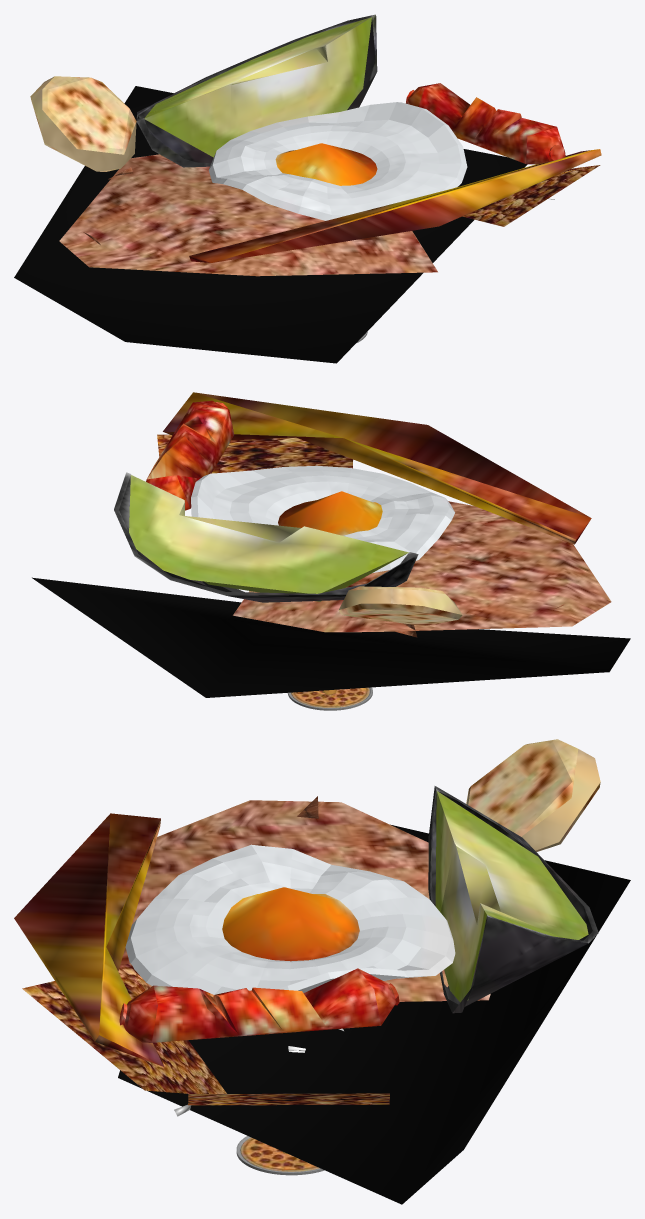
File: bandeja_paisa.glb
3 renders of one model, top to bottom at view 1: azimuth 30°, elevation 25°; view 2: azimuth 150°, elevation 25°; view 3: azimuth 270°, elevation 25°, orthographic. The views are drawn at different scales.
Parts seen in each view (by area): view 1: Object_2.003, Object_3.002, Object_7.002, Object_4.002, Object_5.002, Object_8.004, Object_6.004, Object_41.001, Object_46.001; view 2: Object_2.003, Object_3.002, Object_5.002, Object_4.002, Object_7.002, Object_6.004, Object_8.004, Object_46.001, Object_41.001, Object_4.003, Object_5.003; view 3: Object_2.003, Object_7.002, Object_5.002, Object_3.002, Object_4.002, Object_6.004, Object_8.004, Object_46.001, Object_41.001, Object_4.003.
Boxes of the visible parts, left/top/right/bottom form: Object_2.003: left=14, top=86, right=527, bottom=363; Object_3.002: left=59, top=154, right=437, bottom=276; Object_7.002: left=208, top=102, right=467, bottom=220; Object_4.002: left=144, top=17, right=371, bottom=157; Object_5.002: left=189, top=149, right=601, bottom=262; Object_8.004: left=30, top=76, right=136, bottom=171; Object_6.004: left=406, top=83, right=565, bottom=164; Object_41.001: left=136, top=14, right=377, bottom=167; Object_46.001: left=462, top=165, right=600, bottom=226; Object_2.003: left=32, top=577, right=630, bottom=697; Object_3.002: left=233, top=501, right=611, bottom=632; Object_5.002: left=163, top=392, right=591, bottom=544; Object_4.002: left=129, top=475, right=408, bottom=601; Object_7.002: left=191, top=465, right=454, bottom=572; Object_6.004: left=146, top=400, right=234, bottom=510; Object_8.004: left=338, top=586, right=462, bottom=626; Object_46.001: left=157, top=434, right=353, bottom=473; Object_41.001: left=114, top=472, right=418, bottom=602; Object_4.003: left=293, top=688, right=369, bottom=707; Object_5.003: left=293, top=687, right=368, bottom=707; Object_2.003: left=118, top=824, right=630, bottom=1204; Object_7.002: left=125, top=844, right=455, bottom=994; Object_5.002: left=14, top=813, right=163, bottom=1066; Object_3.002: left=120, top=800, right=490, bottom=1001; Object_4.002: left=435, top=791, right=588, bottom=1002; Object_6.004: left=119, top=968, right=399, bottom=1042; Object_8.004: left=466, top=739, right=600, bottom=851; Object_46.001: left=22, top=963, right=389, bottom=1105; Object_41.001: left=428, top=786, right=598, bottom=1013; Object_4.003: left=240, top=1138, right=311, bottom=1171.
Size of the model in its own units: 15.74 by 6.51 by 11.22.
Materials: 15 (13 with a texture image).
